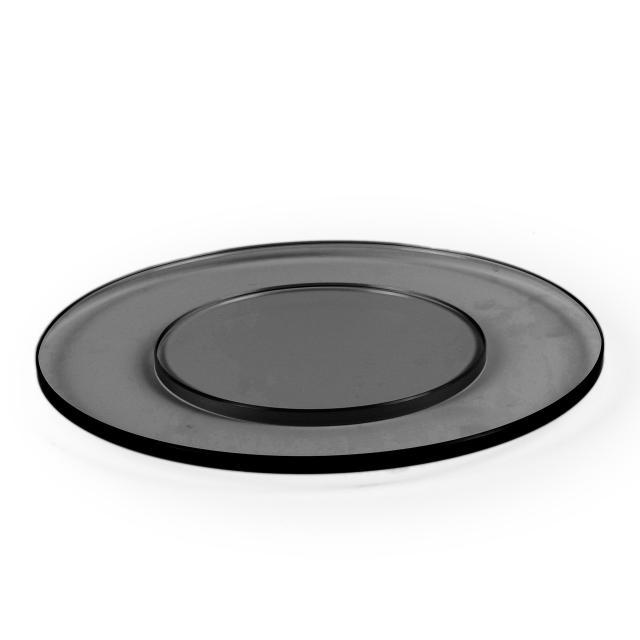hidden camera: (40, 203, 603, 509)
